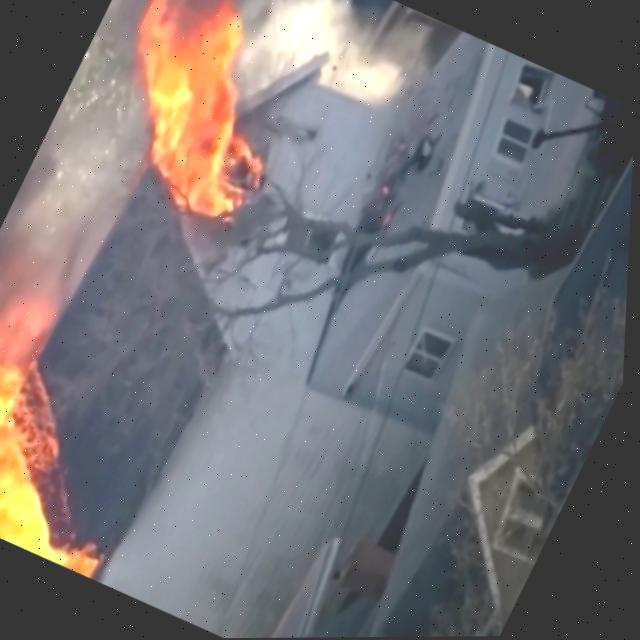Fire: (72, 0, 327, 241), (0, 282, 195, 580)
